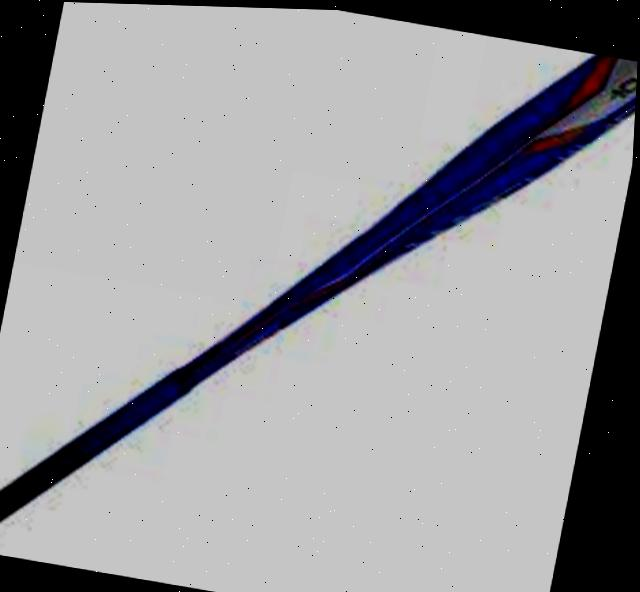baseball bat: (0, 50, 638, 541)
